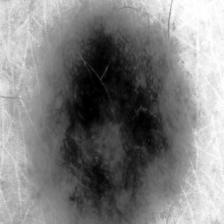Benign Marking or Mole: (40, 17, 194, 224)
